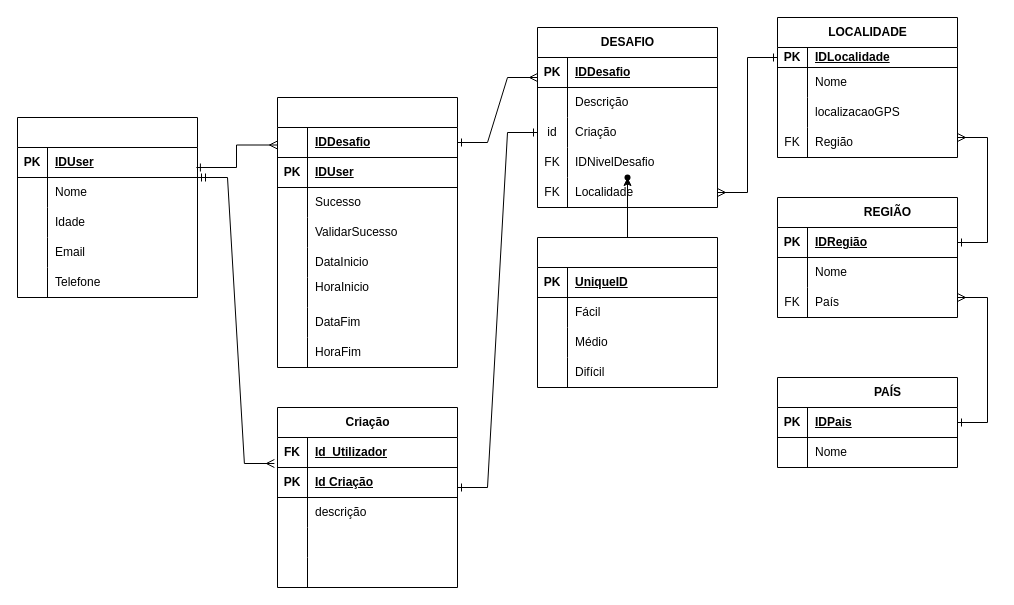
This 1014x605 diagram has some shape labels left out. Each missing label, with the box of its shape:
NívelDesafio: (536, 236, 718, 388)
Participar: (276, 96, 458, 368)
UTILIZADOR: (16, 116, 198, 298)
